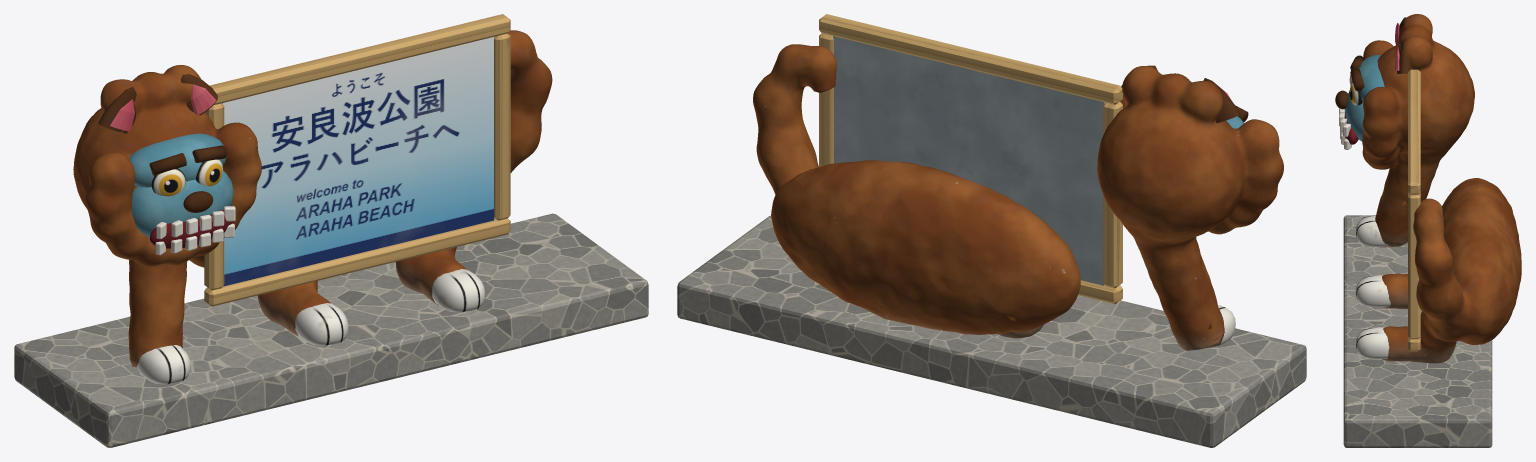
File: ShisaSign.gltf
3 renders of one model, left to right at view 1: azimuth 30°, elevation 25°; view 2: azimuth 150°, elevation 25°; view 3: azimuth 270°, elevation 25°, orthographic. The views are drawn at different scales.
Parts seen in each view (by area): view 1: ShisaSign; view 2: ShisaSign; view 3: ShisaSign.
Part boxes in pixels (x1,y1,x2,y2): ShisaSign: [14, 14, 648, 447]; ShisaSign: [677, 14, 1306, 447]; ShisaSign: [1335, 14, 1521, 447].
Size of the model in its own units: 4.6 by 2.6 by 1.76.
Materials: 12 (12 with a texture image).
